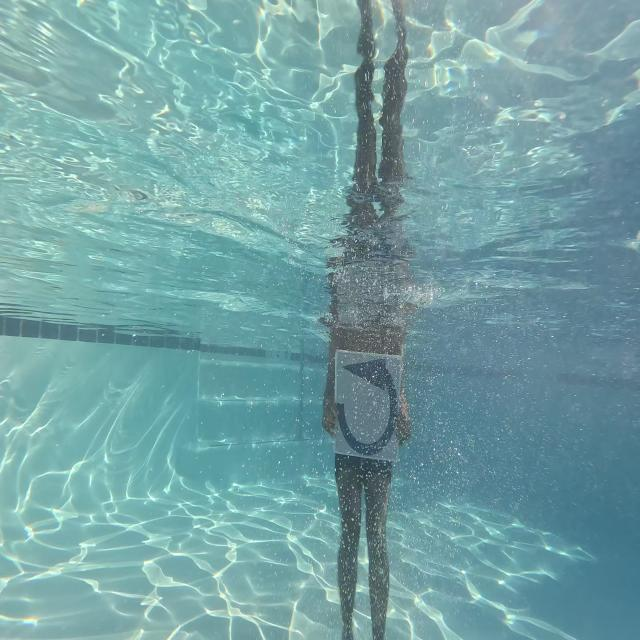blue_side: (337, 344, 404, 458)
